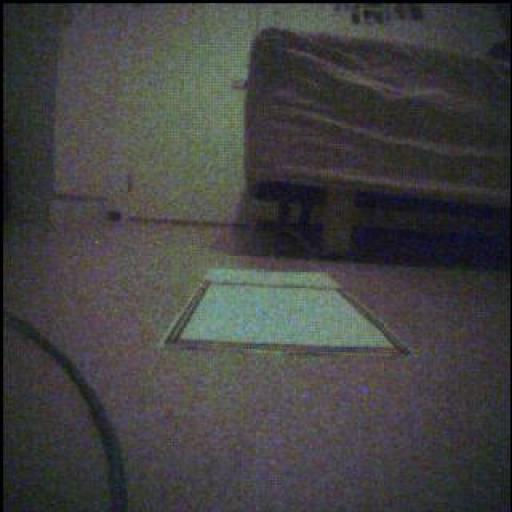pad: (161, 270, 409, 355)
